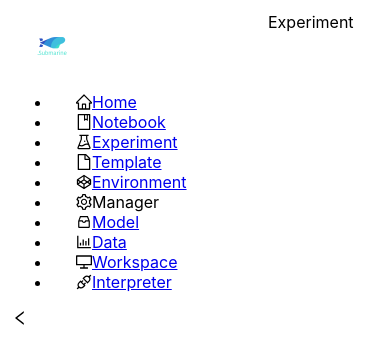
Test: Router test › Model page router
The image size is (371, 342).
Click the link with test id "model-link": point(116, 222) [92,212,139,232]
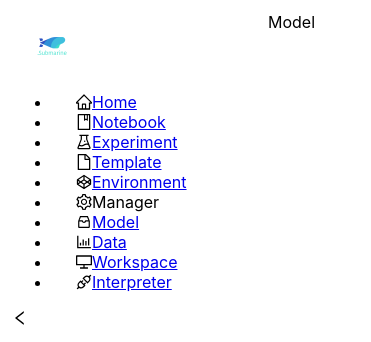
Now the element with test id "model-page" is shown, box [268,12,315,32]
